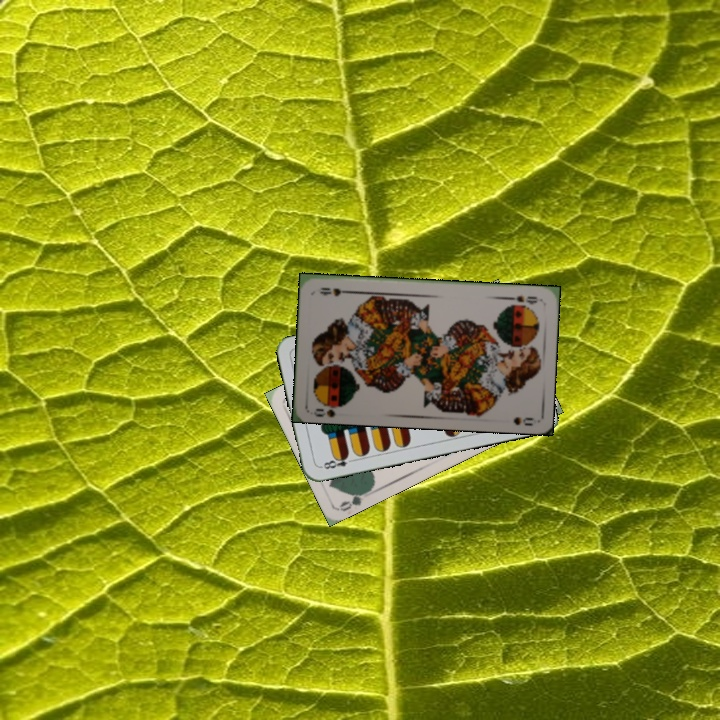E8: (317, 451, 357, 472)
GO: (336, 486, 373, 514)
SO: (310, 398, 349, 419), (502, 292, 540, 307)
